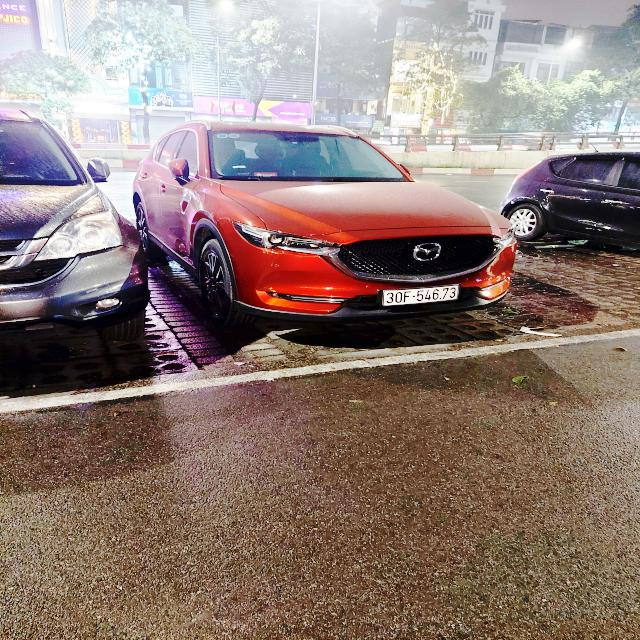license_plate: (382, 284, 462, 308)
